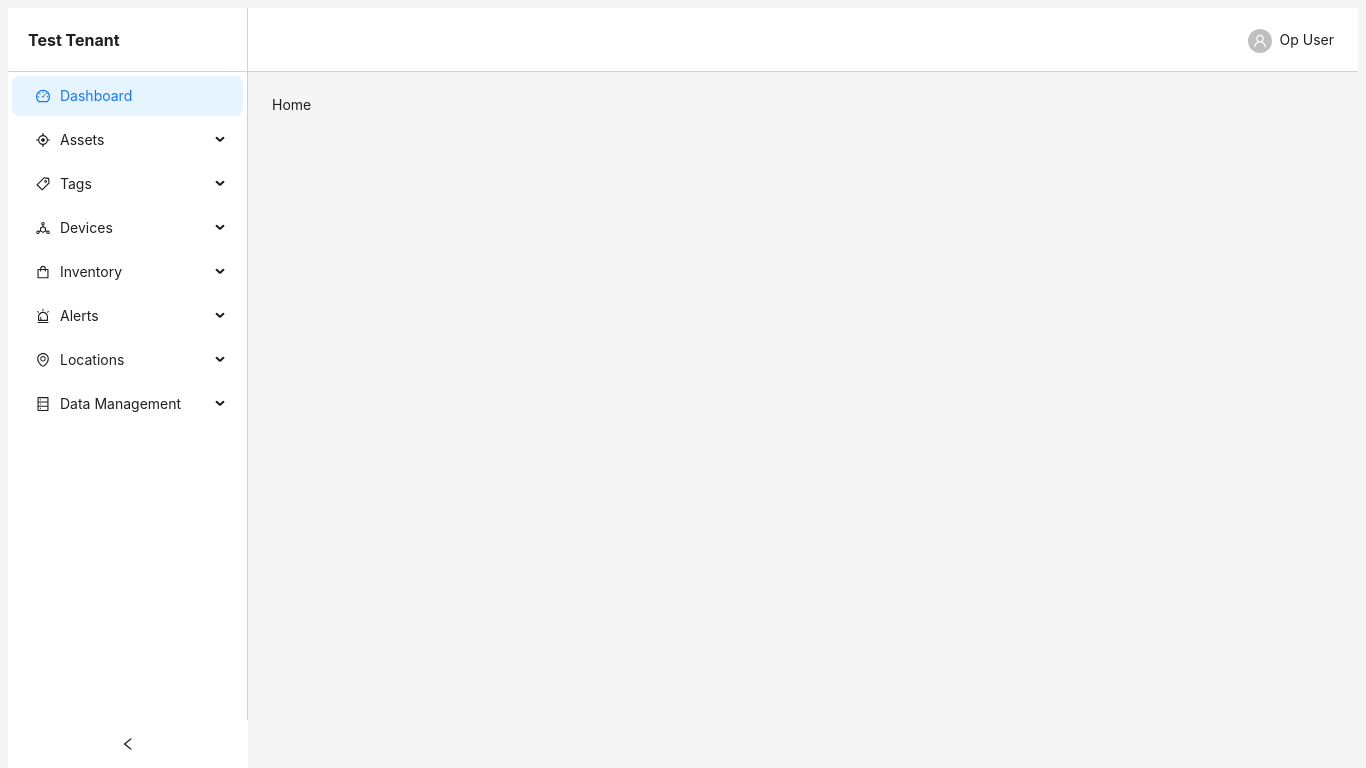
Test case: Layout — nav.placement into an empty target section (Sprint 61 fix) › renders the Locations section once an item is placed into it
The width and height of the screenshot is (1366, 768).
Check: the text "Locations" is shown, box 60,351 -> 124,368
Click the menu item "Locations" at (80,360), box 36,351 -> 124,368
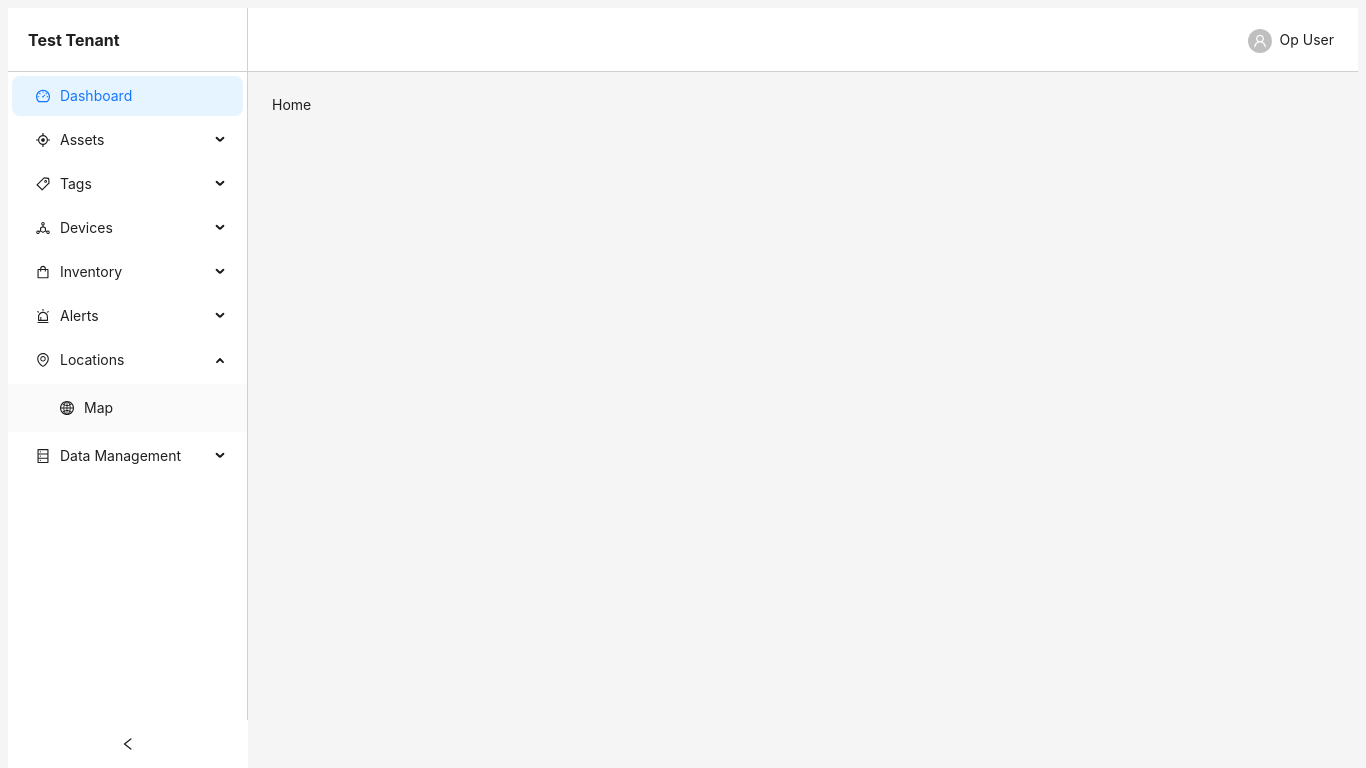
Check: the text "Map" is shown, box 84,399 -> 113,416
